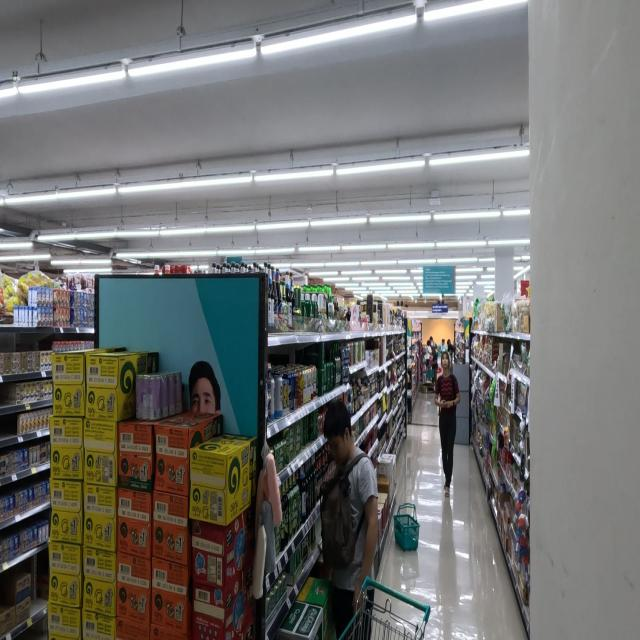shoplifting: (318, 402, 378, 640)
